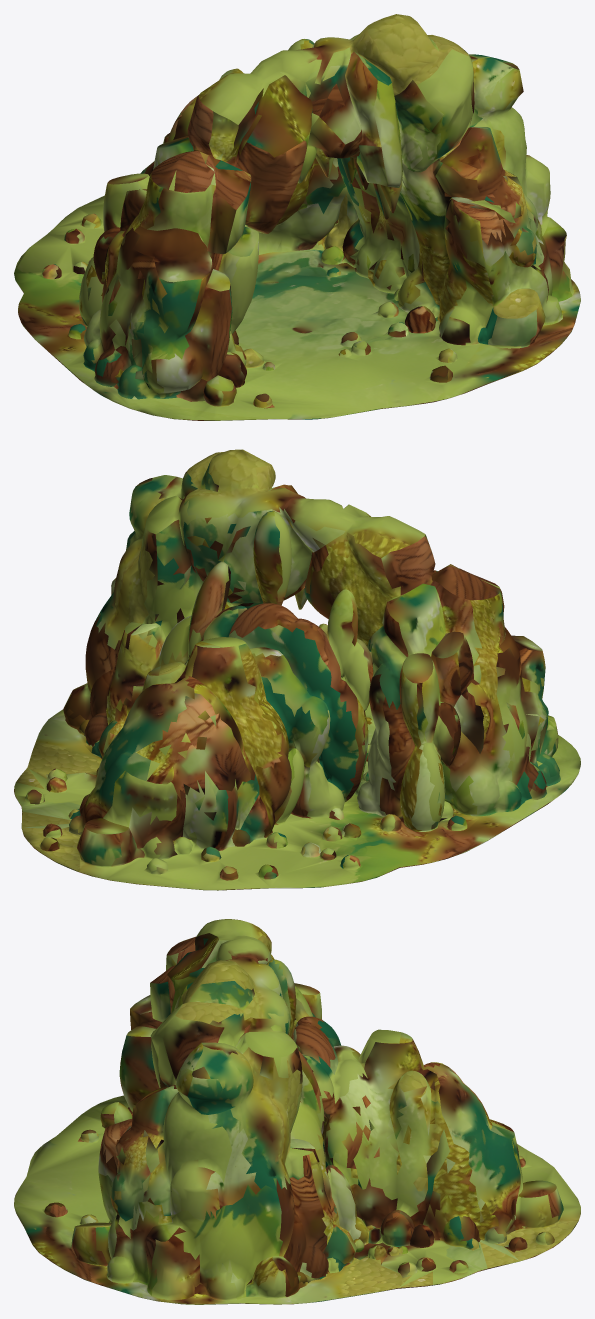
Rendered from cave02.fbx.
The picture shows the model from 3 angles, top to bottom: view 1: azimuth 30°, elevation 25°; view 2: azimuth 150°, elevation 25°; view 3: azimuth 270°, elevation 25°; orthographic projection. The views are drawn at different scales.
Parts seen in each view (by area): view 1: node_0; view 2: node_0; view 3: node_0.
Boxes of the visible parts, x1=… form: node_0: x1=14, y1=14, x2=580, y2=420; node_0: x1=14, y1=449, x2=580, y2=890; node_0: x1=14, y1=919, x2=580, y2=1304.
Bounding box in the file's own units: 93.39 × 53.59 × 103.
